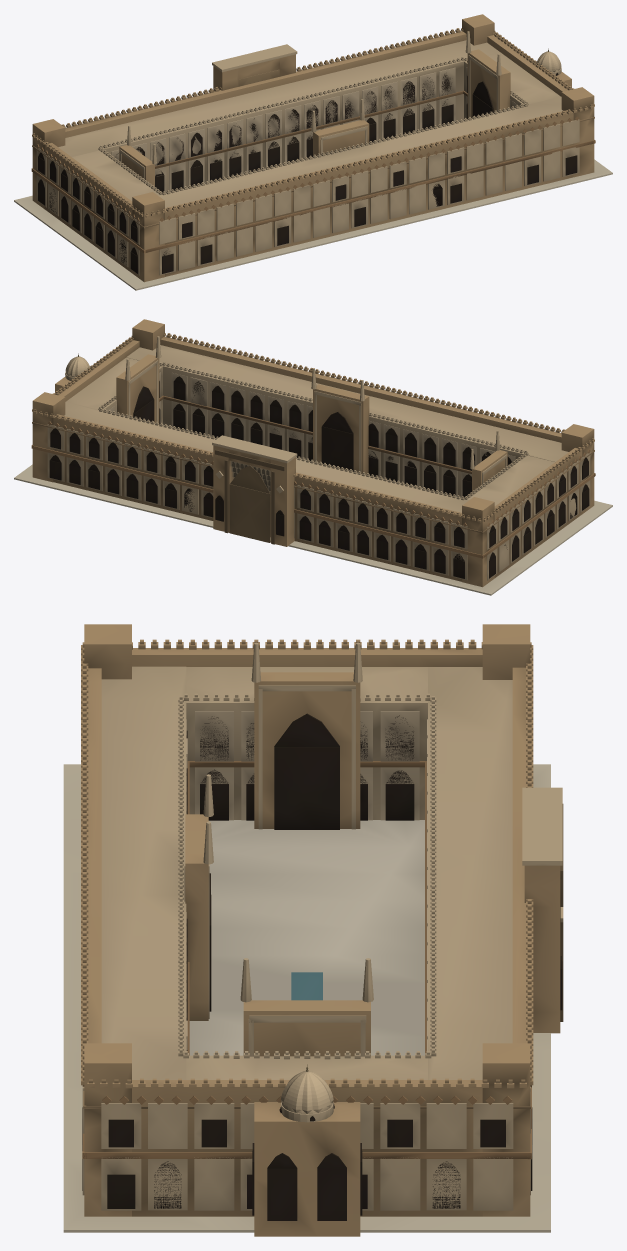
File: mustansiriya.glb
3 views of the same model, one above another, from view 1: azimuth 30°, elevation 25°; view 2: azimuth 150°, elevation 25°; view 3: azimuth 270°, elevation 25° (orthographic). The views are drawn at different scales.
Parts seen in each view (by area): view 1: p0_walls, p1_facades, p2_court, p3_portal; view 2: p0_walls, p1_facades, p2_court, p3_portal; view 3: p0_walls, p2_court, p1_facades, p3_portal.
Part boxes in pixels (x1,y1,x2,y2): p0_walls: (14, 31, 612, 290); p1_facades: (31, 28, 595, 275); p2_court: (98, 31, 528, 195); p3_portal: (32, 14, 594, 282); p0_walls: (14, 336, 612, 595); p1_facades: (31, 333, 595, 580); p2_court: (98, 336, 528, 500); p3_portal: (32, 319, 594, 587); p0_walls: (63, 648, 550, 1232); p2_court: (178, 642, 436, 1059); p1_facades: (81, 639, 533, 1210); p3_portal: (84, 624, 563, 1236).
Bounding box in the file's own units: 106 × 21.55 × 47.17.
